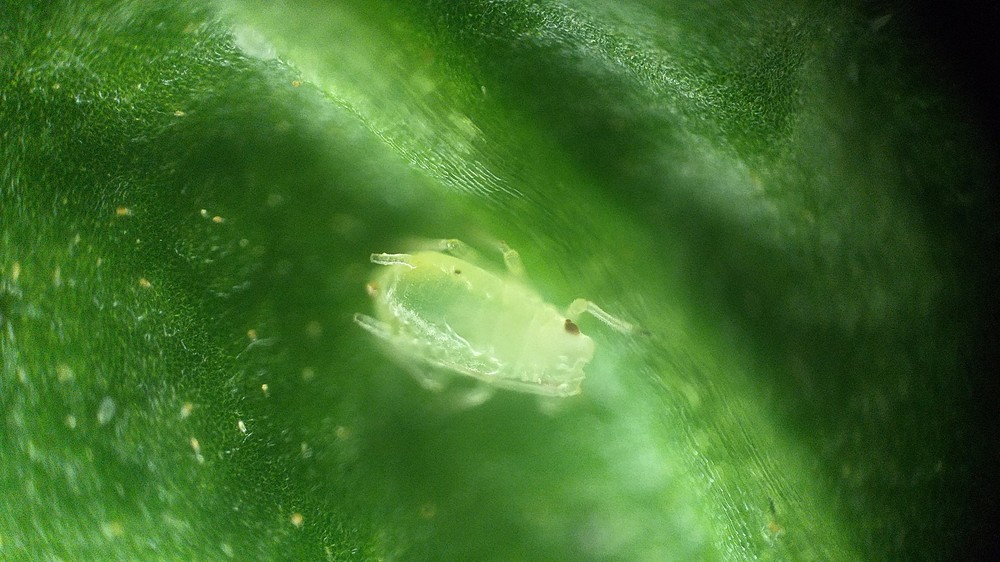Pulgon: (320, 224, 663, 442)
